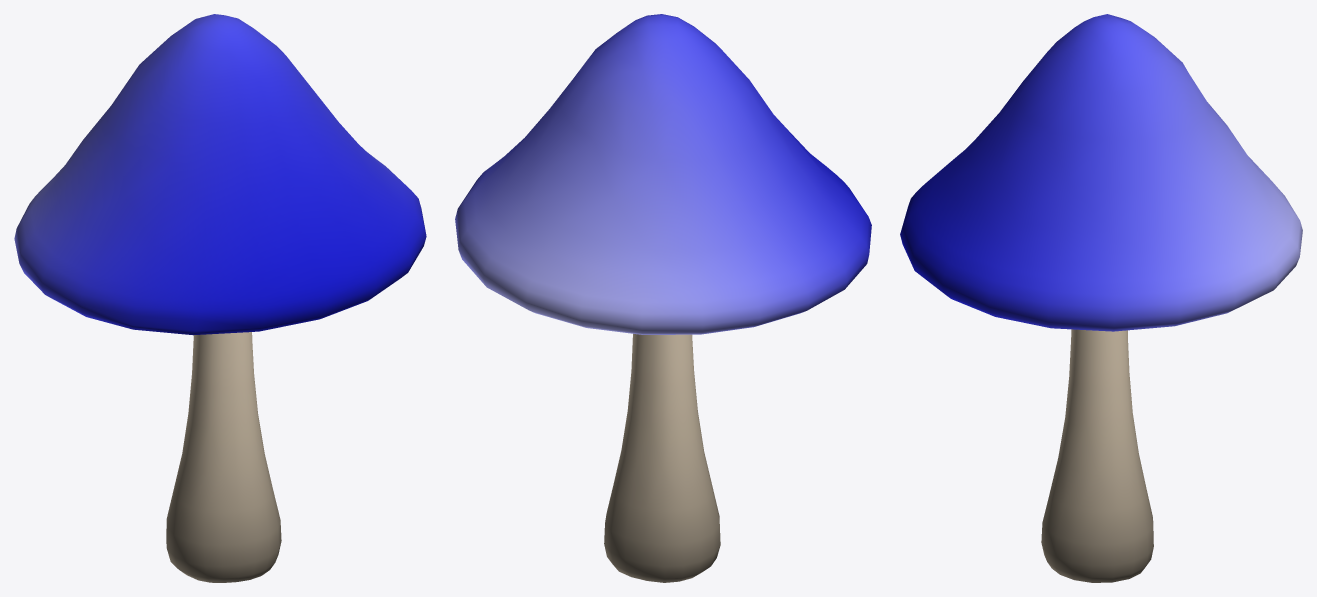
The model's file is Mushroom_0001_0029.fbx.
3 renders of one model, left to right at view 1: azimuth 30°, elevation 25°; view 2: azimuth 150°, elevation 25°; view 3: azimuth 270°, elevation 25°, orthographic.
Visible parts, largest first — view 1: Mushroom_0001_0029; view 2: Mushroom_0001_0029; view 3: Mushroom_0001_0029.
Part boxes in pixels (bbox=[...]): Mushroom_0001_0029: bbox=[14, 14, 426, 582]; Mushroom_0001_0029: bbox=[455, 14, 871, 582]; Mushroom_0001_0029: bbox=[900, 14, 1302, 582].
Bounding box in the file's own units: 0.141 × 0.2038 × 0.1362.
Materials: 1 (1 with a texture image).
